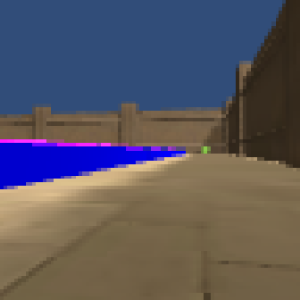goodGoal: (198, 143, 213, 157)
platform: (1, 148, 182, 188)
ramp: (1, 136, 114, 146)
